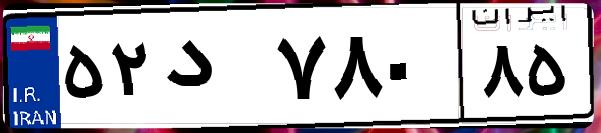0: (385, 28, 445, 110)
2: (110, 28, 158, 98)
5: (57, 26, 110, 100), (525, 38, 570, 115)
7: (270, 28, 330, 110)
8: (330, 28, 385, 110), (475, 38, 525, 113)
د: (158, 20, 270, 120)
